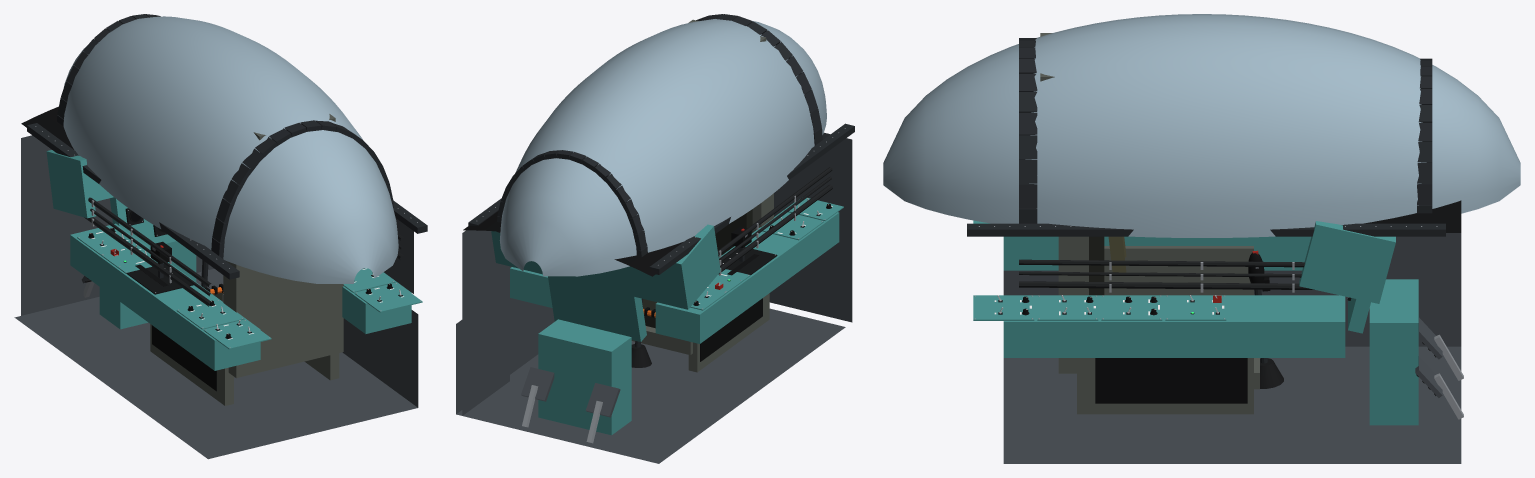
Rendered from kit_fishbed.glb.
3 views of the same model, side by side, from view 1: azimuth 30°, elevation 25°; view 2: azimuth 150°, elevation 25°; view 3: azimuth 270°, elevation 25° (orthographic). The views are drawn at different scales.
Parts seen in each view (by area): view 1: cockpit, CANOPY_GLASS; view 2: cockpit, CANOPY_GLASS, STICK; view 3: cockpit, CANOPY_GLASS, STICK.
Boxes of the visible parts, x1,y1,x2,y2 form: cockpit: (14,14,427,459); CANOPY_GLASS: (63,16,398,283); cockpit: (456,14,854,463); CANOPY_GLASS: (499,19,826,276); STICK: (631,298,651,367); cockpit: (967,33,1463,463); CANOPY_GLASS: (883,14,1520,237); STICK: (1248,250,1283,388).
Size of the model in its own units: 0.94 by 1.37 by 2.09.
